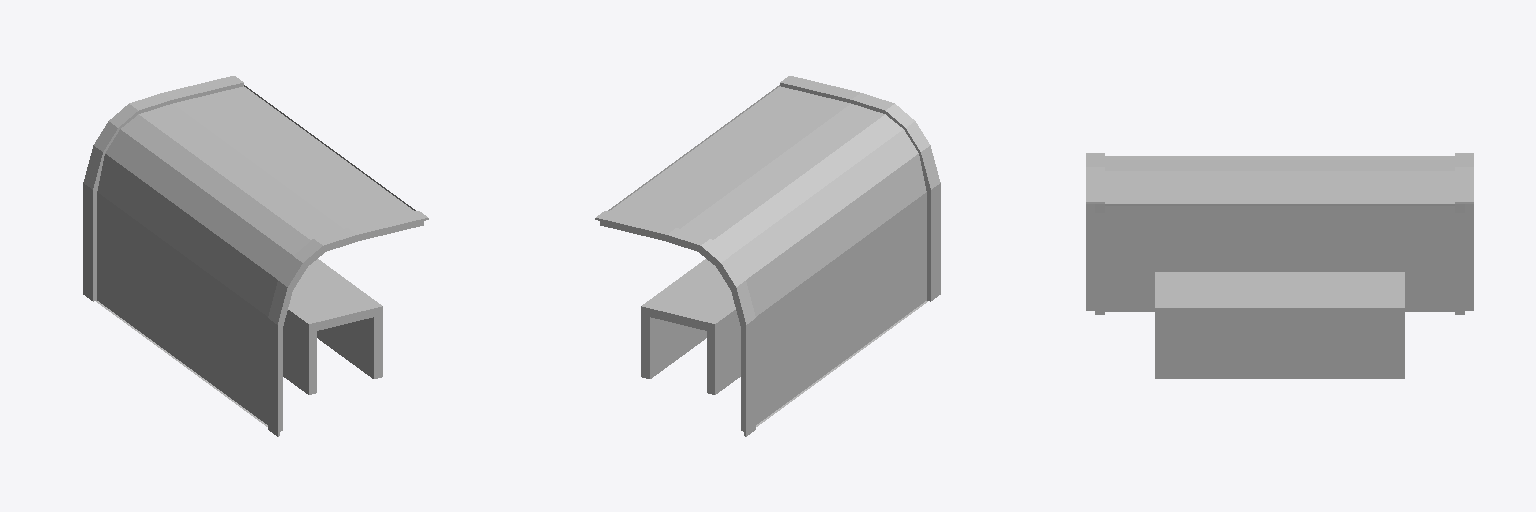
Rendered from stall.obj.
3 renders of one model, left to right at view 1: azimuth 30°, elevation 25°; view 2: azimuth 150°, elevation 25°; view 3: azimuth 270°, elevation 25°, orthographic.
Visible parts, largest first — view 1: Cube; view 2: Cube; view 3: Cube.
Boxes of the visible parts, x1,y1,x2,y2 form: Cube: [83, 76, 428, 436]; Cube: [595, 76, 940, 436]; Cube: [1086, 153, 1473, 378].
Size of the model in its own units: 3.42 by 3.94 by 7.6.